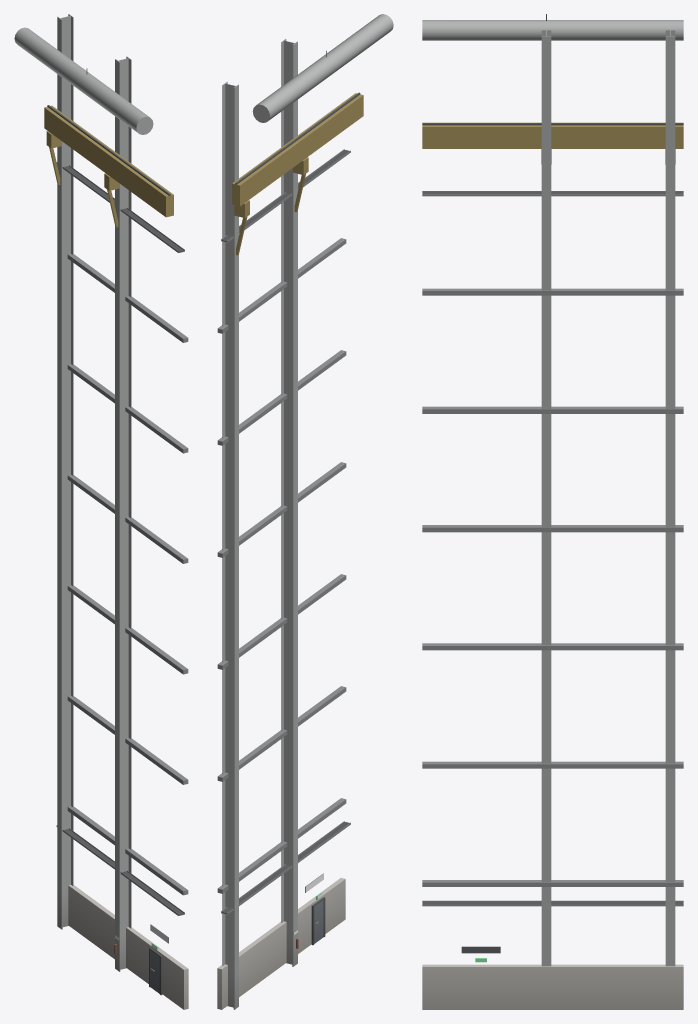
Rendered from wall_e_n.glb.
3 renders of one model, left to right at view 1: azimuth 30°, elevation 25°; view 2: azimuth 150°, elevation 25°; view 3: azimuth 270°, elevation 25°, orthographic. The views are drawn at different scales.
Visible parts, largest first — view 1: wall_e_n; view 2: wall_e_n; view 3: wall_e_n.
Boxes of the visible parts, x1,y1,x2,y2 form: wall_e_n: (14, 14, 188, 1009); wall_e_n: (217, 14, 393, 1009); wall_e_n: (422, 14, 683, 1009).
Bounding box in the file's own units: 3.95 × 65.85 × 16.
